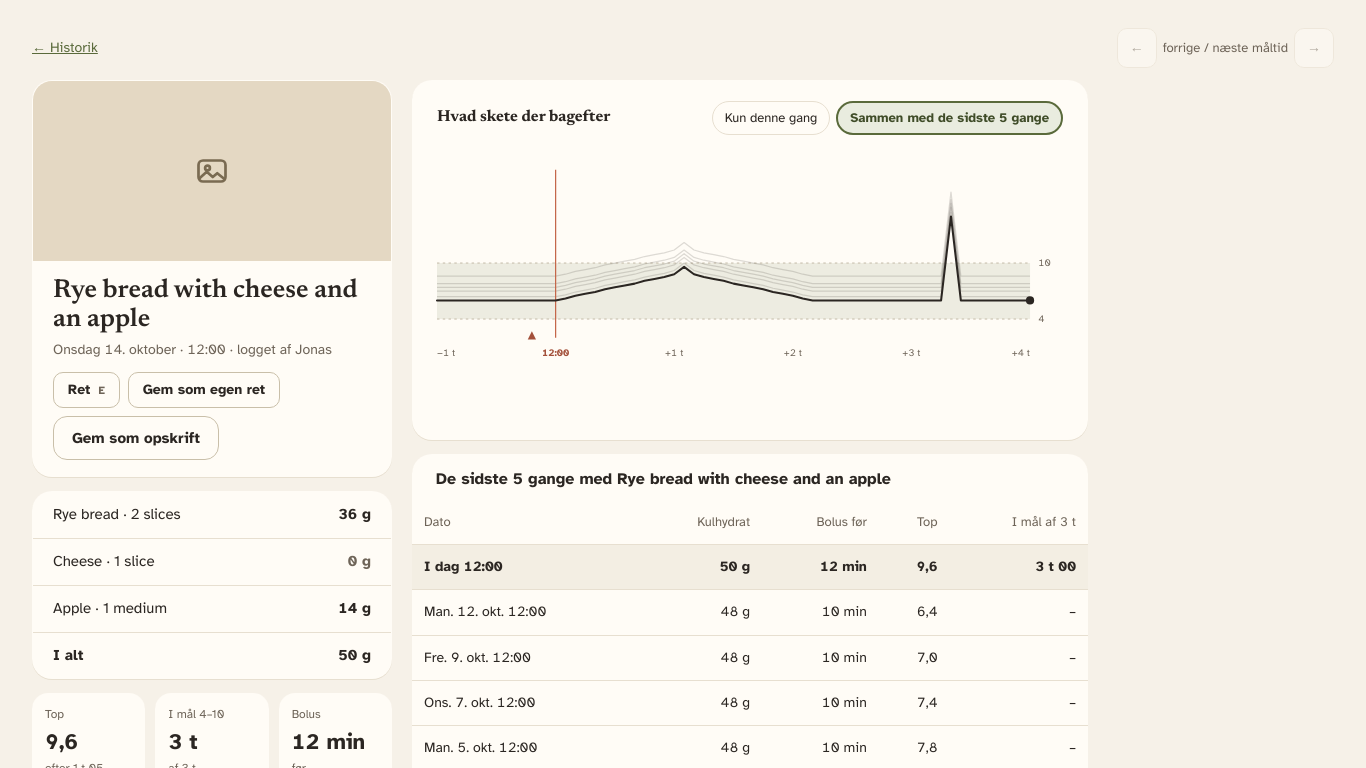
Test: Måltid · desktop (Maaltid-Desktop) › draws the banner, the 26 px title, 'Onsdag 14. oktober · 12:00 · logget af Jonas' and 'Ret' with E
The width and height of the screenshot is (1366, 768).
Check: the text "Onsdag 14. oktober · 12:00 · logget af Jonas" is shown, box left=53, top=340, right=371, bottom=360
Click the button "Ret E" at (86, 390), box left=53, top=372, right=120, bottom=408
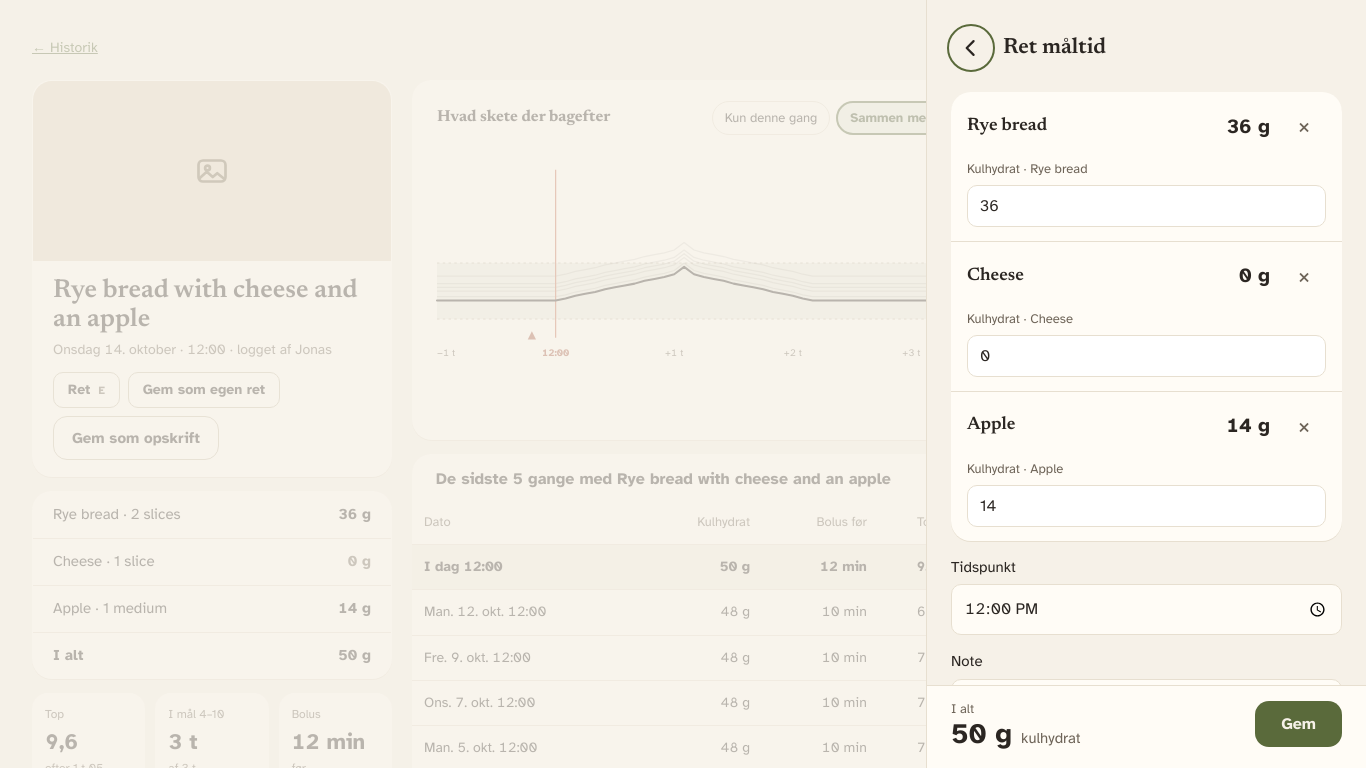
Check: the text "E" is shown, box left=98, top=384, right=105, bottom=397
Check: the dialog "Ret måltid" is shown, box left=926, top=0, right=1365, bottom=767
